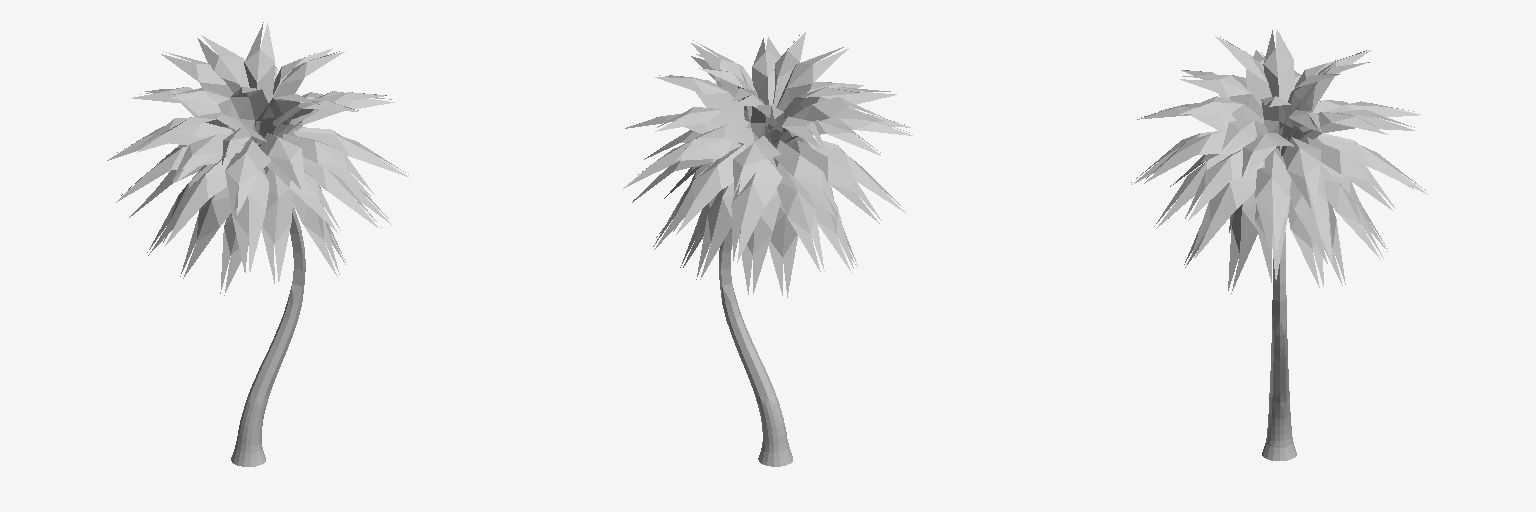
The model's file is tree.obj.
The picture shows the model from 3 angles: view 1: azimuth 30°, elevation 25°; view 2: azimuth 150°, elevation 25°; view 3: azimuth 270°, elevation 25°; orthographic projection.
Parts seen in each view (by area): view 1: palm_leaf_2_5_1_palm_leaf_2_5_1Mat_0, palm_trunk_6_0_palm_trunk_6_0Mat_0; view 2: palm_leaf_2_5_1_palm_leaf_2_5_1Mat_0, palm_trunk_6_0_palm_trunk_6_0Mat_0; view 3: palm_leaf_2_5_1_palm_leaf_2_5_1Mat_0, palm_trunk_6_0_palm_trunk_6_0Mat_0.
Part boxes in pixels (x1,y1,x2,y2): palm_leaf_2_5_1_palm_leaf_2_5_1Mat_0: (107,22,409,295); palm_trunk_6_0_palm_trunk_6_0Mat_0: (231,143,305,466); palm_leaf_2_5_1_palm_leaf_2_5_1Mat_0: (623,32,912,297); palm_trunk_6_0_palm_trunk_6_0Mat_0: (719,228,792,466); palm_leaf_2_5_1_palm_leaf_2_5_1Mat_0: (1131,30,1427,293); palm_trunk_6_0_palm_trunk_6_0Mat_0: (1262,146,1296,460).
Size of the model in its own units: 6.53 by 9.85 by 6.62.